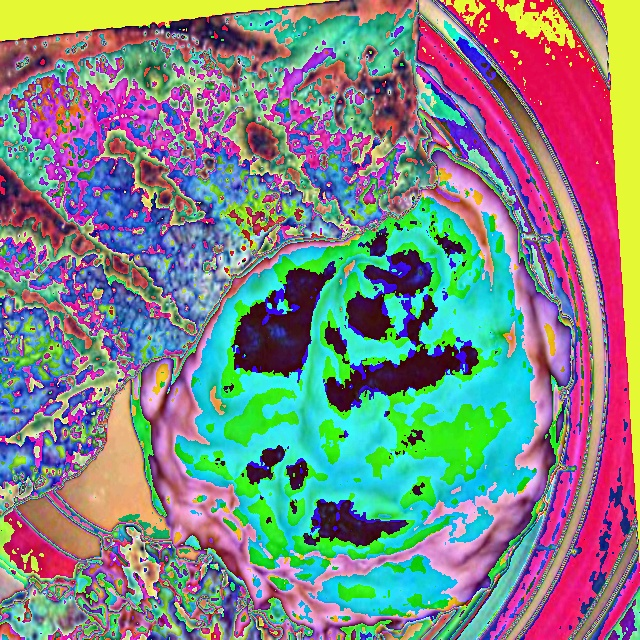background: (0, 0, 575, 640)
